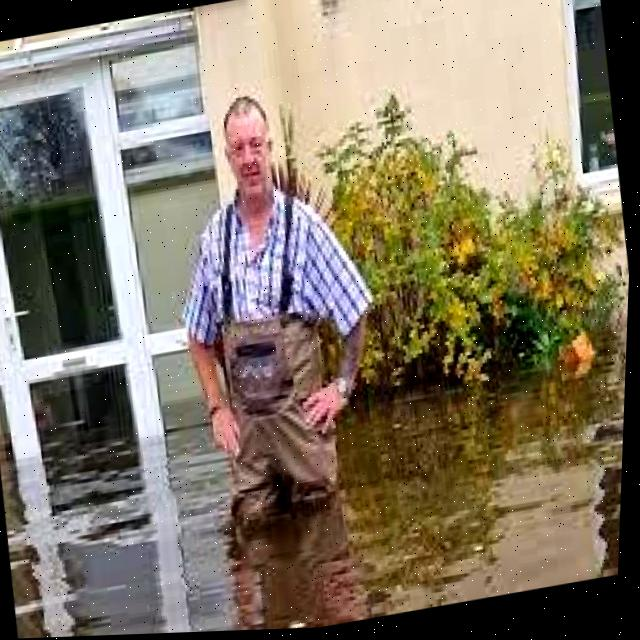civilian: (151, 73, 406, 531)
